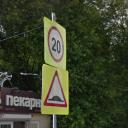speed_limit_20: (47, 24, 66, 64)
